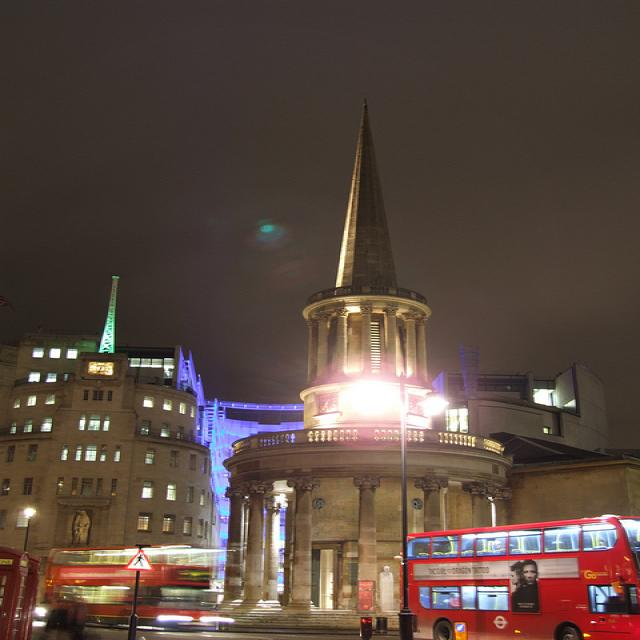Vehicle: (407, 517, 637, 640), (41, 546, 216, 632)
